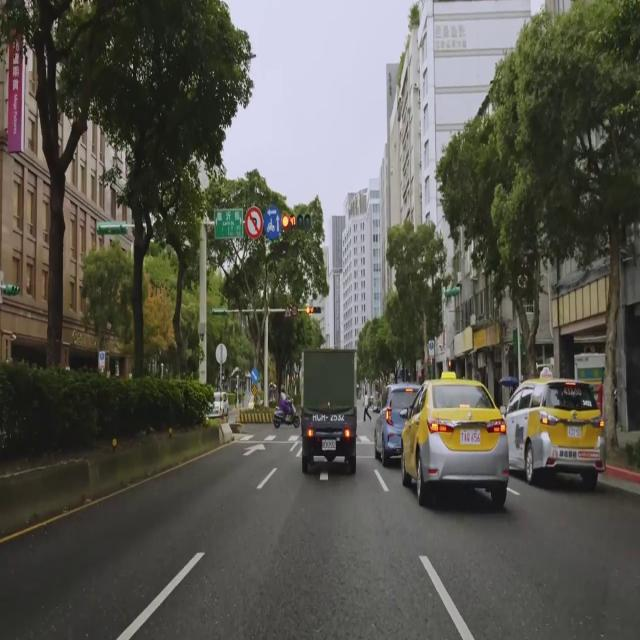red light: (280, 213, 312, 229), (306, 306, 321, 314)
